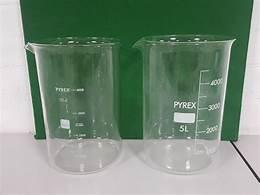Beaker: (136, 27, 238, 175), (24, 35, 130, 172)
